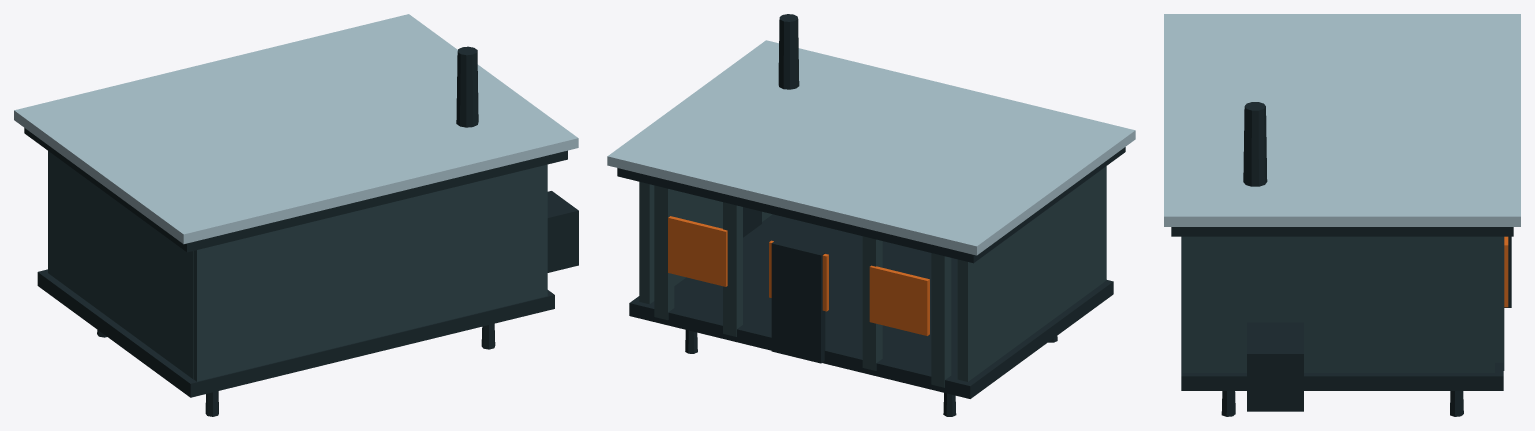
File: shelter.obj
The picture shows the model from 3 angles, left to right: view 1: azimuth 30°, elevation 25°; view 2: azimuth 150°, elevation 25°; view 3: azimuth 270°, elevation 25°; orthographic projection. The views are drawn at different scales.
Bounding box in the file's own units: 7.87 × 4.99 × 5.32.
